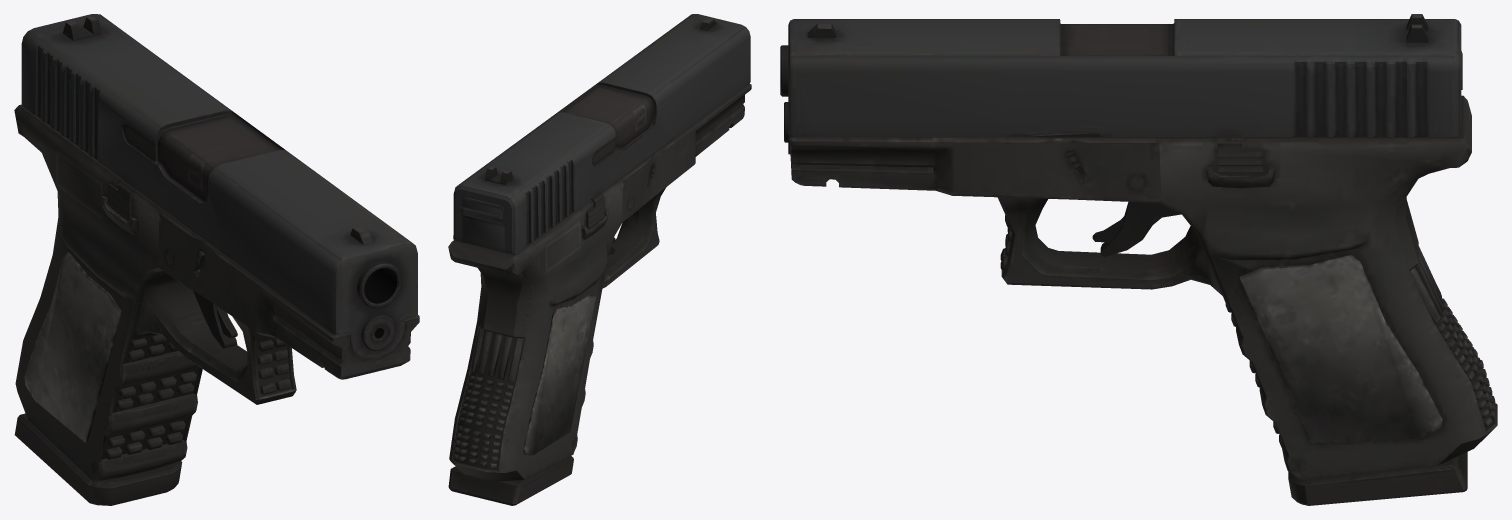
File: glock.glb
The picture shows the model from 3 angles, left to right: view 1: azimuth 30°, elevation 25°; view 2: azimuth 150°, elevation 25°; view 3: azimuth 270°, elevation 25°; orthographic projection. The views are drawn at different scales.
Parts seen in each view (by area): view 1: Cube003_Material_0, Cube007_Material_0, Cube010_Material_0, Cube014_Material_0, Cube007_Material001_0; view 2: Cube003_Material_0, Cube007_Material_0, Cube010_Material_0; view 3: Cube003_Material_0, Cube007_Material_0, Cube010_Material_0, Cube014_Material_0.
Boxes of the visible parts, bbox=[...] form: Cube003_Material_0: bbox=[14, 104, 419, 481]; Cube007_Material_0: bbox=[21, 14, 417, 358]; Cube010_Material_0: bbox=[14, 413, 182, 505]; Cube014_Material_0: bbox=[193, 290, 237, 348]; Cube007_Material001_0: bbox=[364, 268, 397, 338]; Cube003_Material_0: bbox=[448, 83, 751, 481]; Cube007_Material_0: bbox=[453, 14, 750, 253]; Cube010_Material_0: bbox=[448, 456, 573, 505]; Cube003_Material_0: bbox=[789, 95, 1497, 479]; Cube007_Material_0: bbox=[780, 14, 1462, 154]; Cube010_Material_0: bbox=[1288, 452, 1467, 505]; Cube014_Material_0: bbox=[1092, 202, 1181, 256].
Size of the model in its own units: 0.0347 by 0.1501 by 0.21.
2 materials, 1 textured.
